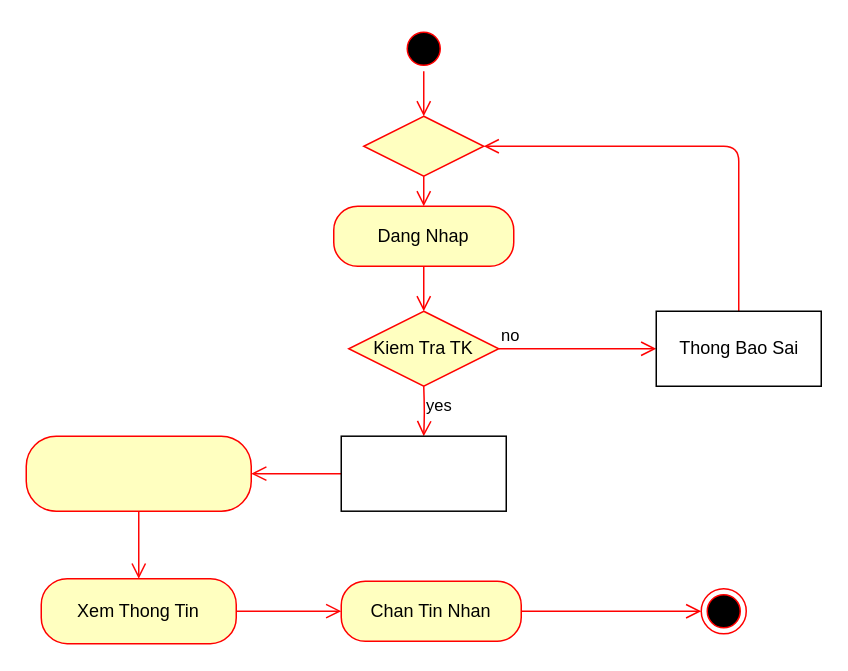
The diagram is 848 pixels wide and 671 high, and some of its shapes have lost their labels. The shapes that lost their labels are listed below. From the top down, each one's centre as x and y in pixels, then its label:
(138,473): Chon Nhom Chat
(423,473): Hien Thi Trang Chu
